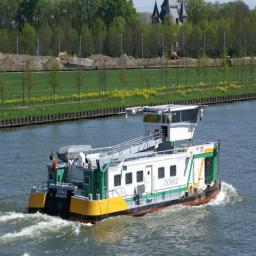tugboat: (27, 100, 223, 229)
